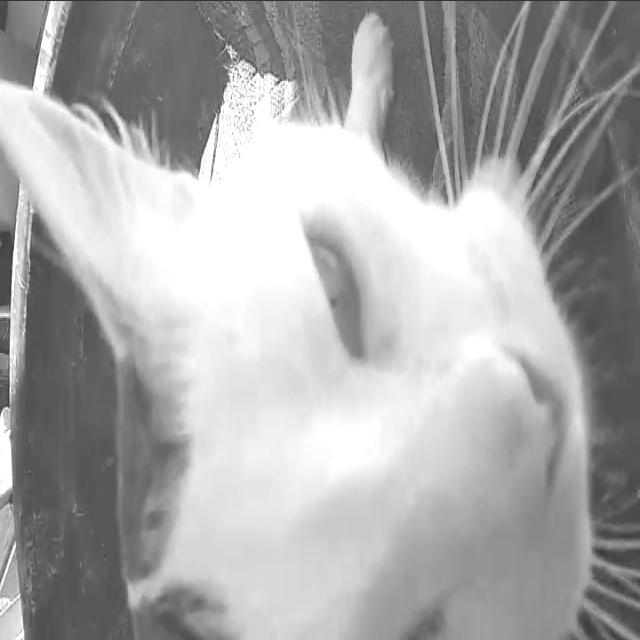Simba: (2, 1, 639, 640)
